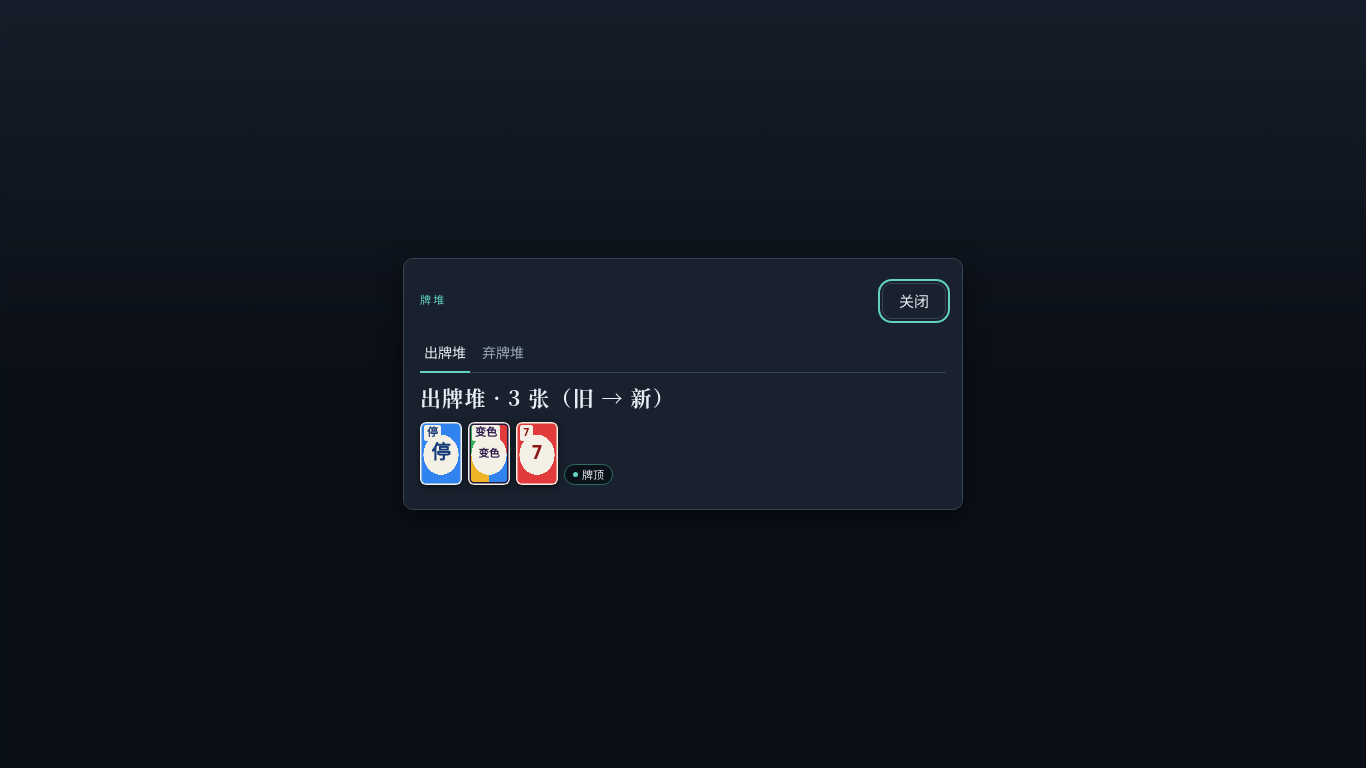
Test: PileModal · 牌堆全貌 › 弃牌堆本来就是旧 → 新，原样画
Click the tab "弃牌堆" at [503, 354], box [478,335,528,373]
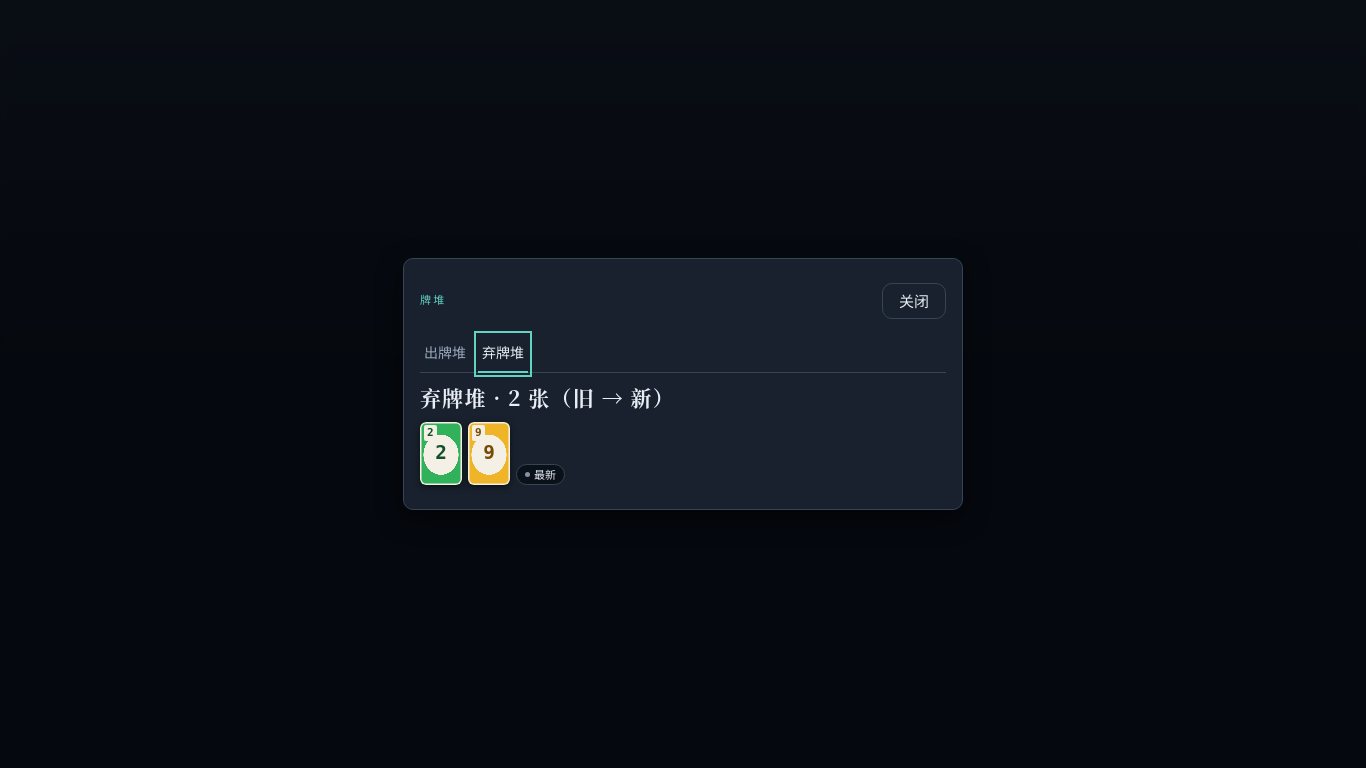
Now the heading "弃牌堆 · 2 张（旧 → 新）" is shown, box [420,382,675,412]
